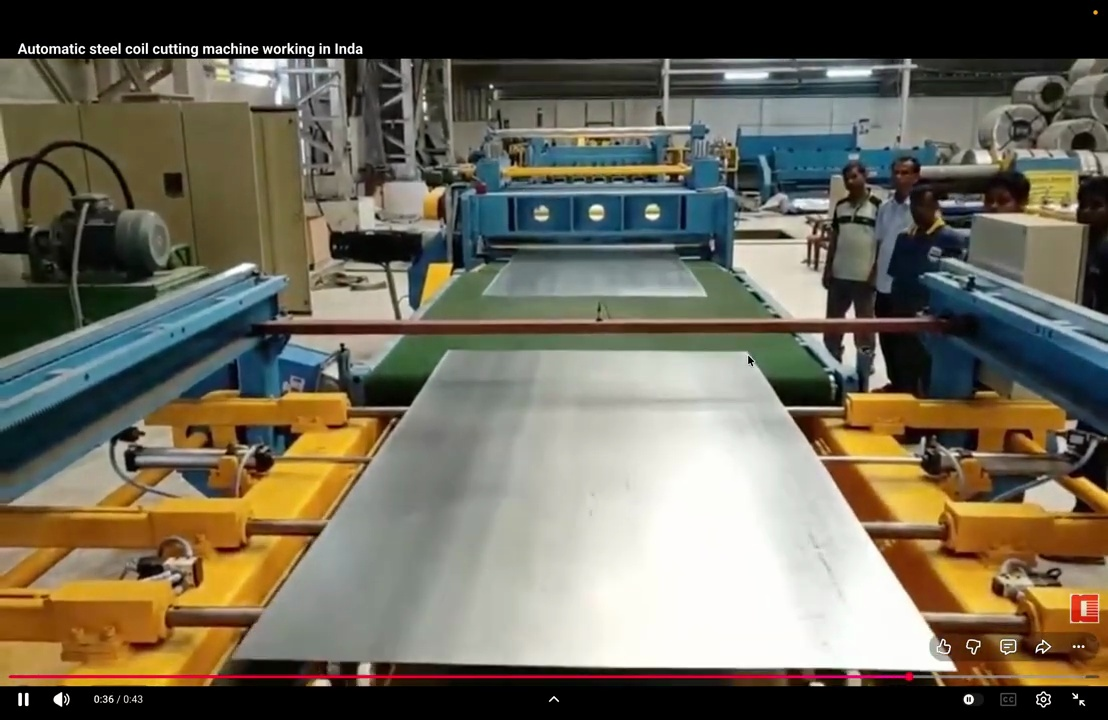steel plate: (236, 351, 952, 670), (483, 249, 705, 297)
